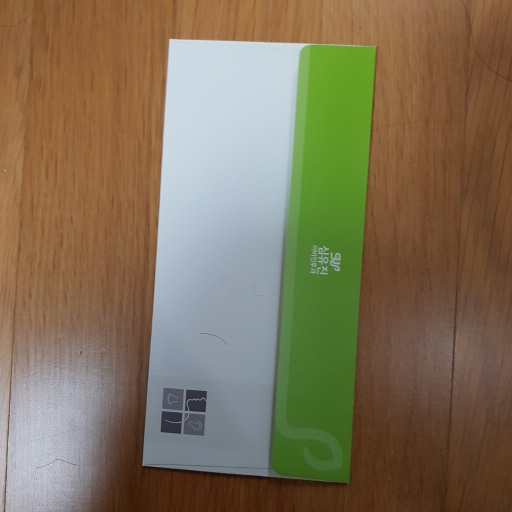Paper_2: (141, 28, 381, 487)
